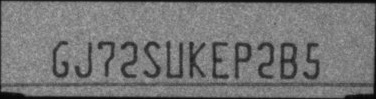2: (119, 39, 138, 77), (258, 42, 275, 80)
5: (303, 43, 319, 79)
7: (97, 40, 115, 77)
B: (279, 40, 298, 80)
E: (211, 40, 229, 79)
G: (50, 40, 69, 78)
J: (74, 40, 93, 78)
K: (188, 40, 206, 78)
P: (233, 41, 253, 79)
S: (143, 41, 162, 78)
U: (166, 40, 184, 79)
